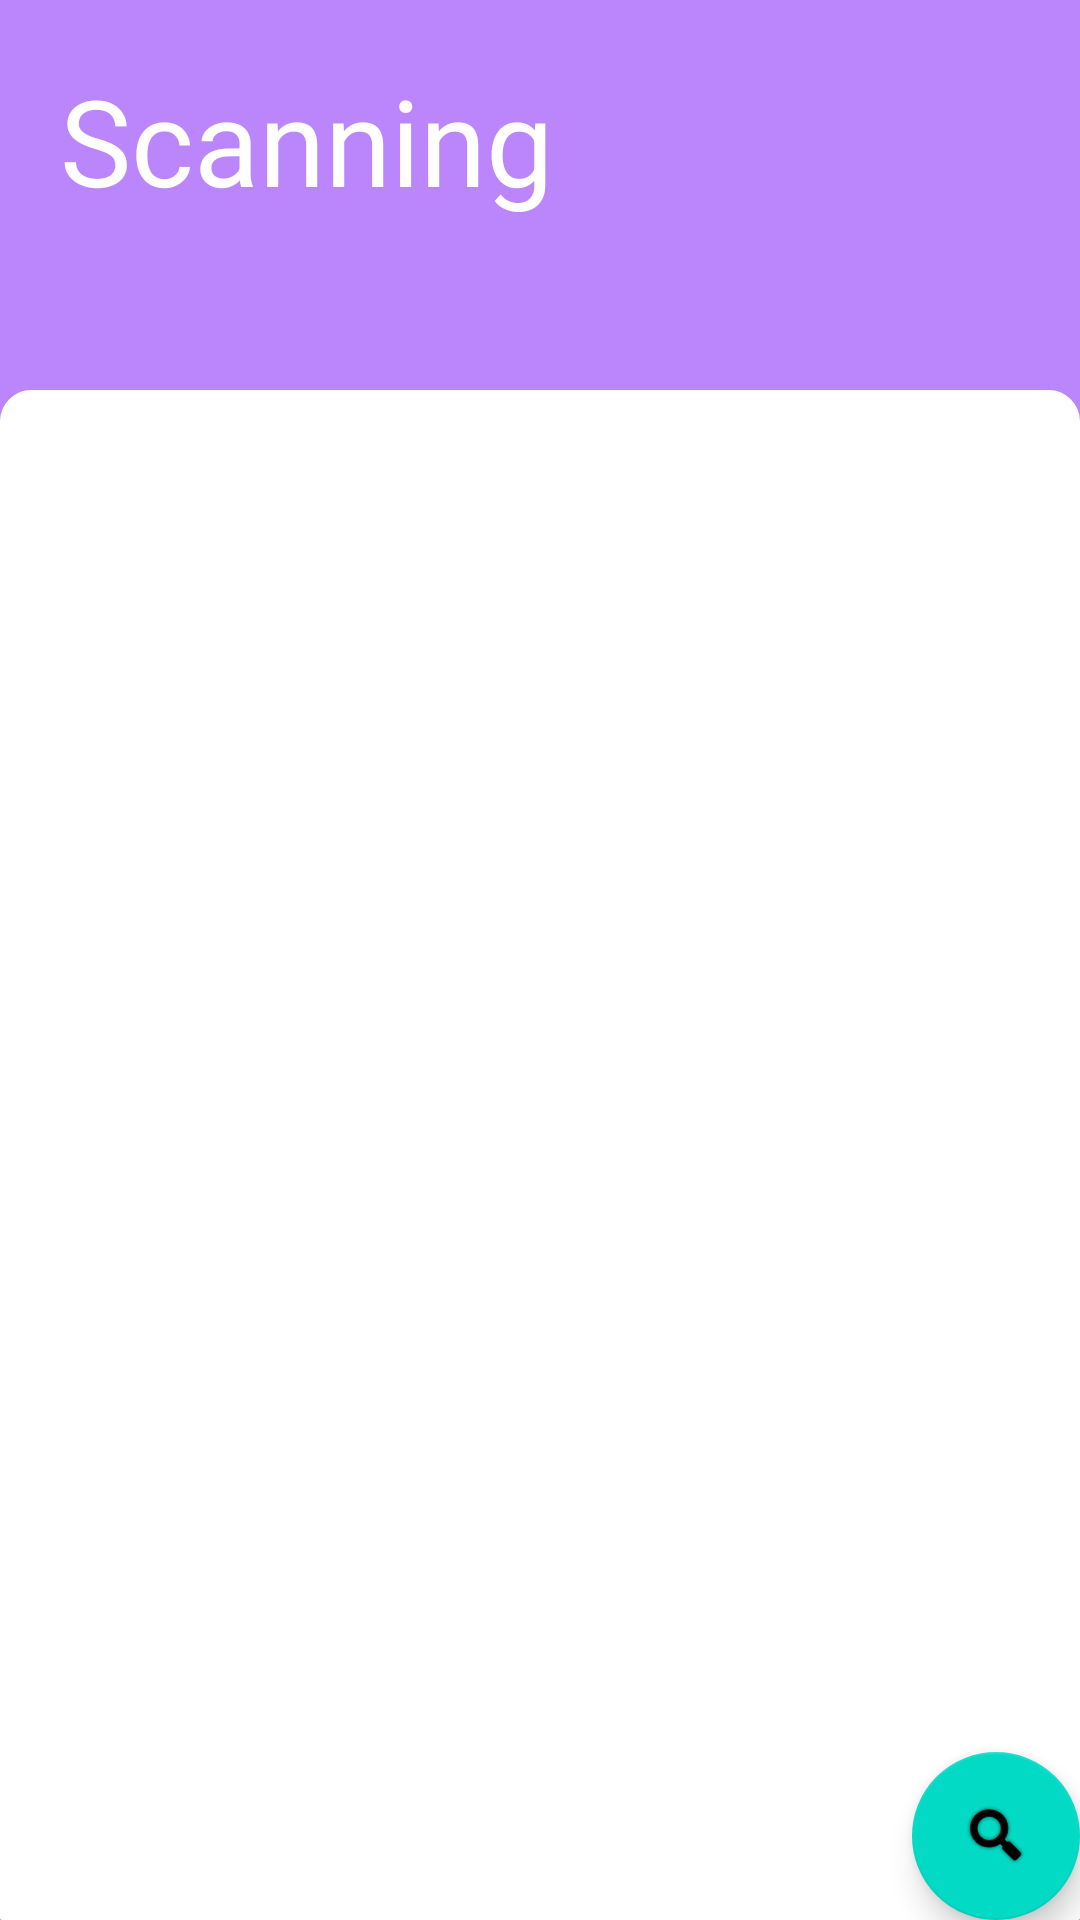

Point at icon controls on the screen. Image size 1080 x 1920, points as point (x, y).
search category: point (996, 1836)
